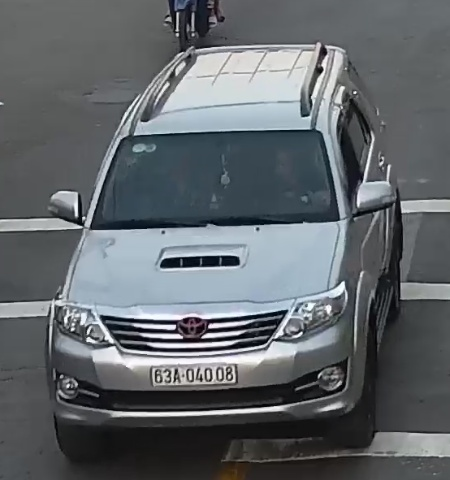vehicle plate: (151, 360, 238, 387)
